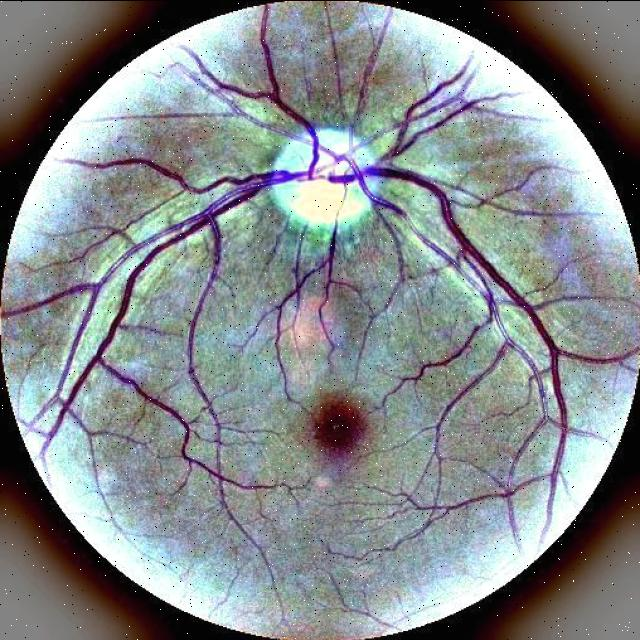Macula: (292, 383, 374, 468)
Nerves: (317, 160, 573, 475), (88, 161, 327, 382)
Optic Disk: (258, 122, 396, 251)
